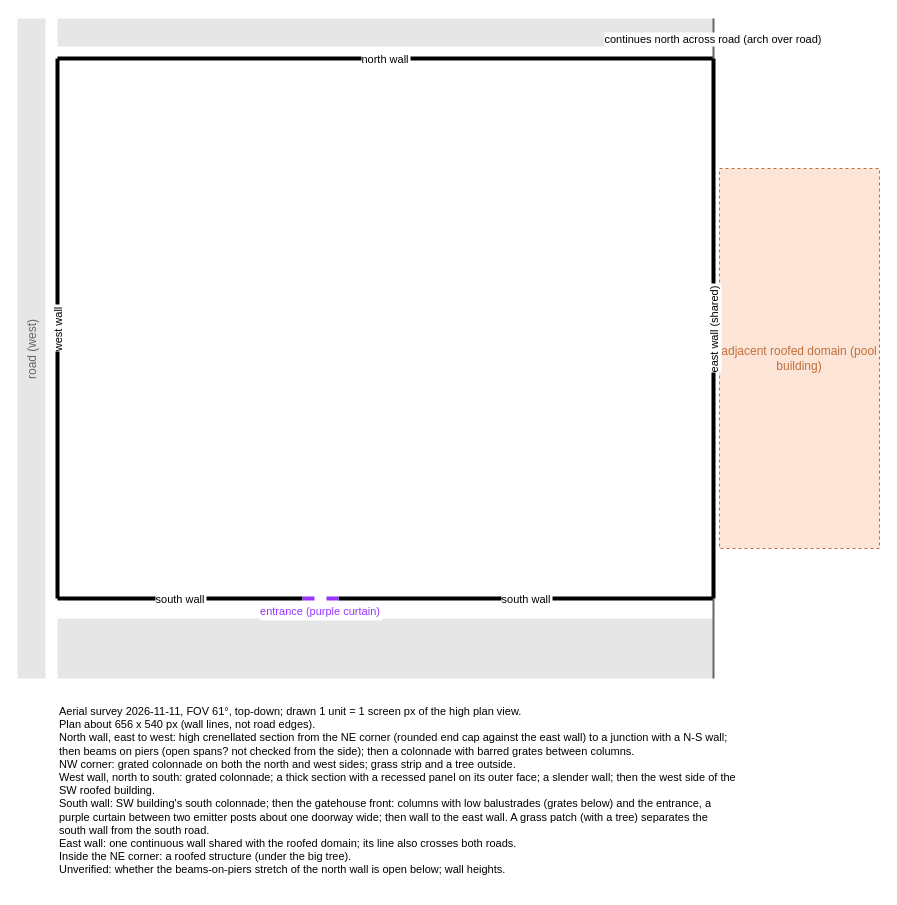
The diagram is 897 pixels wide and 905 high, and some of its shapes have lost their labels. The shapes that lost their labels are listed below. From the top down, each one's box as (x1, y1, x2, y2) in pixels, then its label:
(57, 18, 713, 46): road (north)
(57, 618, 713, 678): road (south)
